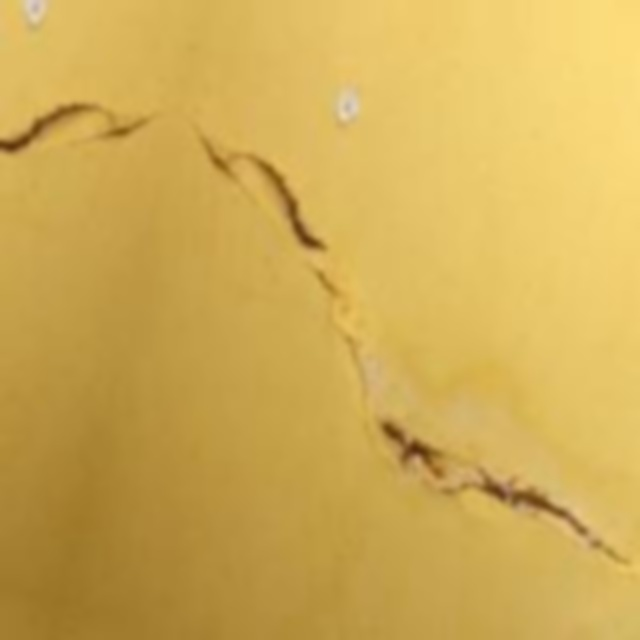SurfaceCrack: (0, 82, 386, 346), (320, 384, 640, 580)
